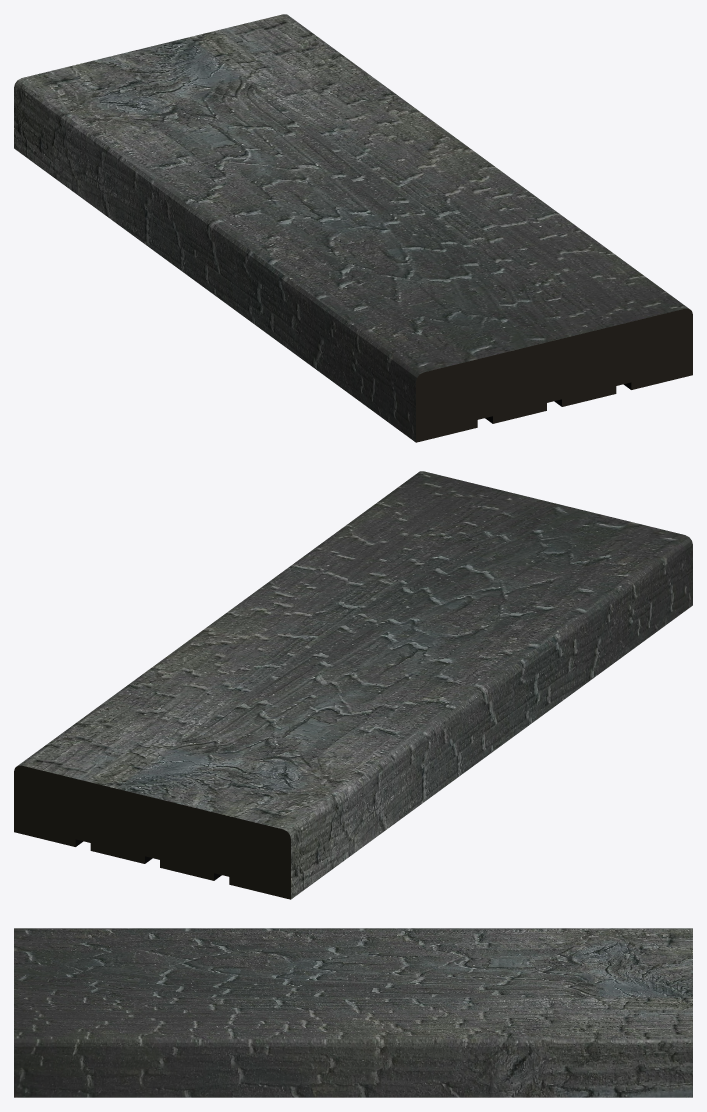
The model's file is thermo-terrace-carbon-light.glb.
The picture shows the model from 3 angles, top to bottom: view 1: azimuth 30°, elevation 25°; view 2: azimuth 150°, elevation 25°; view 3: azimuth 270°, elevation 25°; orthographic projection. The views are drawn at different scales.
Visible parts, largest first — view 1: Staciakampis; view 2: Staciakampis; view 3: Staciakampis.
Part boxes in pixels (x1,y1,x2,y2): Staciakampis: (14, 14, 692, 442); Staciakampis: (14, 471, 692, 899); Staciakampis: (14, 928, 692, 1097).
Bounding box in the file's own units: 0.0733 × 0.0173 × 0.1843.
Materials: 3 (1 with a texture image).
